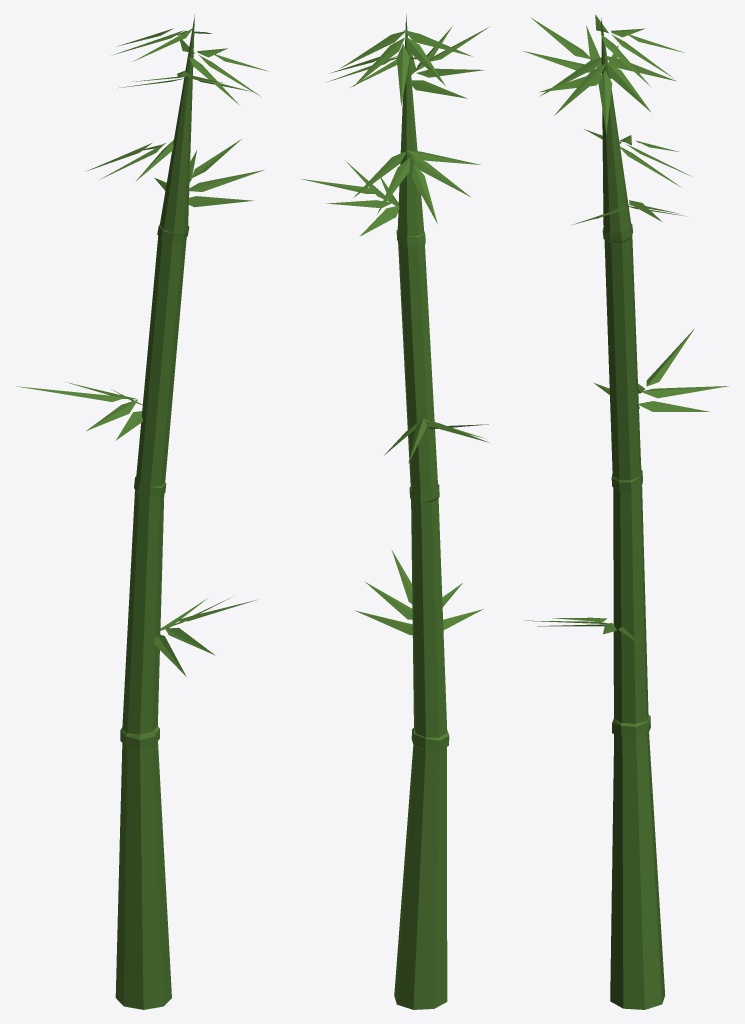
Rendered from bamboo_rostok2.fbx.
3 views of the same model, side by side, from view 1: azimuth 30°, elevation 25°; view 2: azimuth 150°, elevation 25°; view 3: azimuth 270°, elevation 25° (orthographic). The views are drawn at different scales.
Parts seen in each view (by area): view 1: bamboo_rostok2; view 2: bamboo_rostok2; view 3: bamboo_rostok2.
Part boxes in pixels (x1=…): bamboo_rostok2: x1=16, y1=14, x2=267, y2=1009; bamboo_rostok2: x1=301, y1=14, x2=490, y2=1009; bamboo_rostok2: x1=522, y1=14, x2=728, y2=1009.
Size of the model in its own units: 77.02 by 342 by 65.36.
